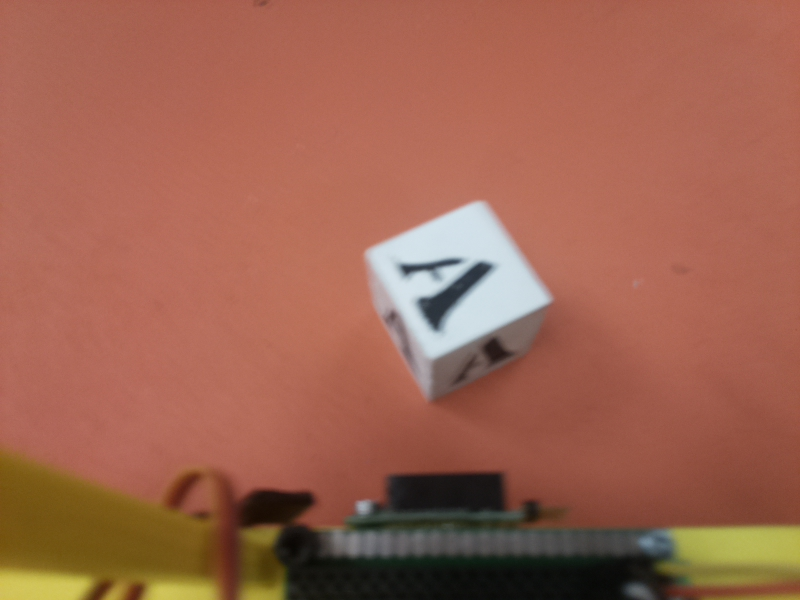blockA: (359, 199, 553, 406)
